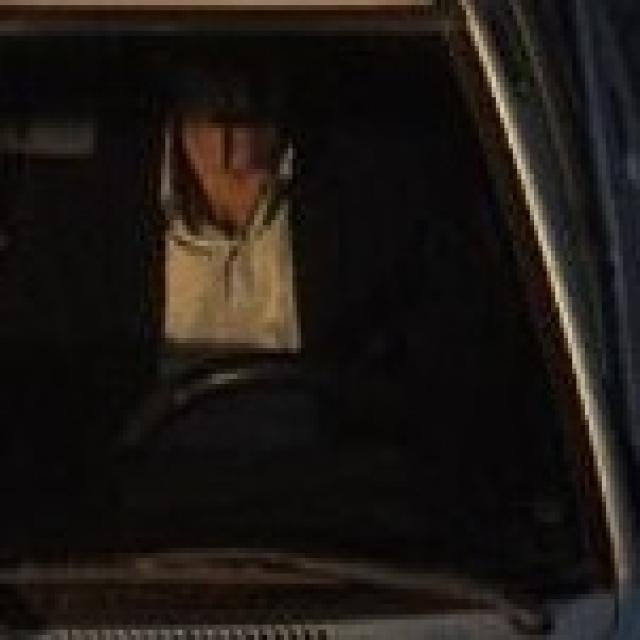No-seat-belt: (82, 50, 566, 576)
